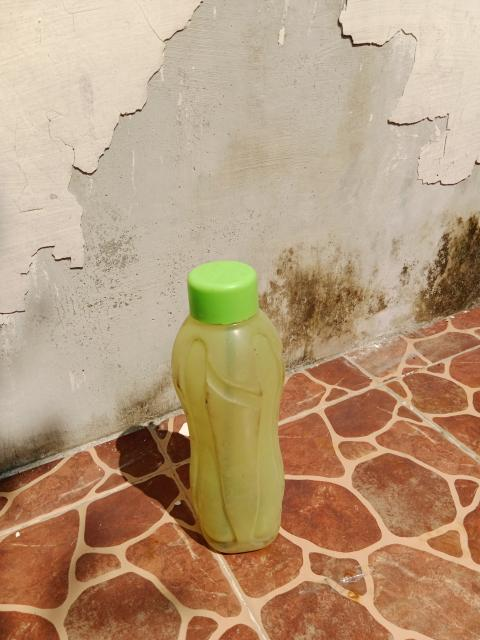botol: (157, 245, 315, 563)
